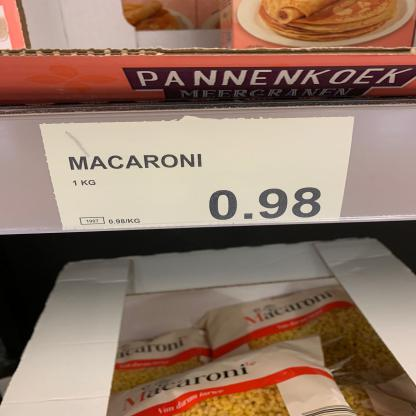prtg: (42, 118, 354, 231)
